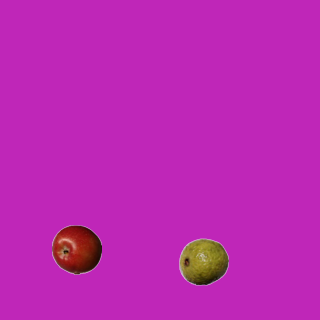Apple Braeburn: (51, 224, 101, 274)
Guava: (178, 236, 228, 286)
